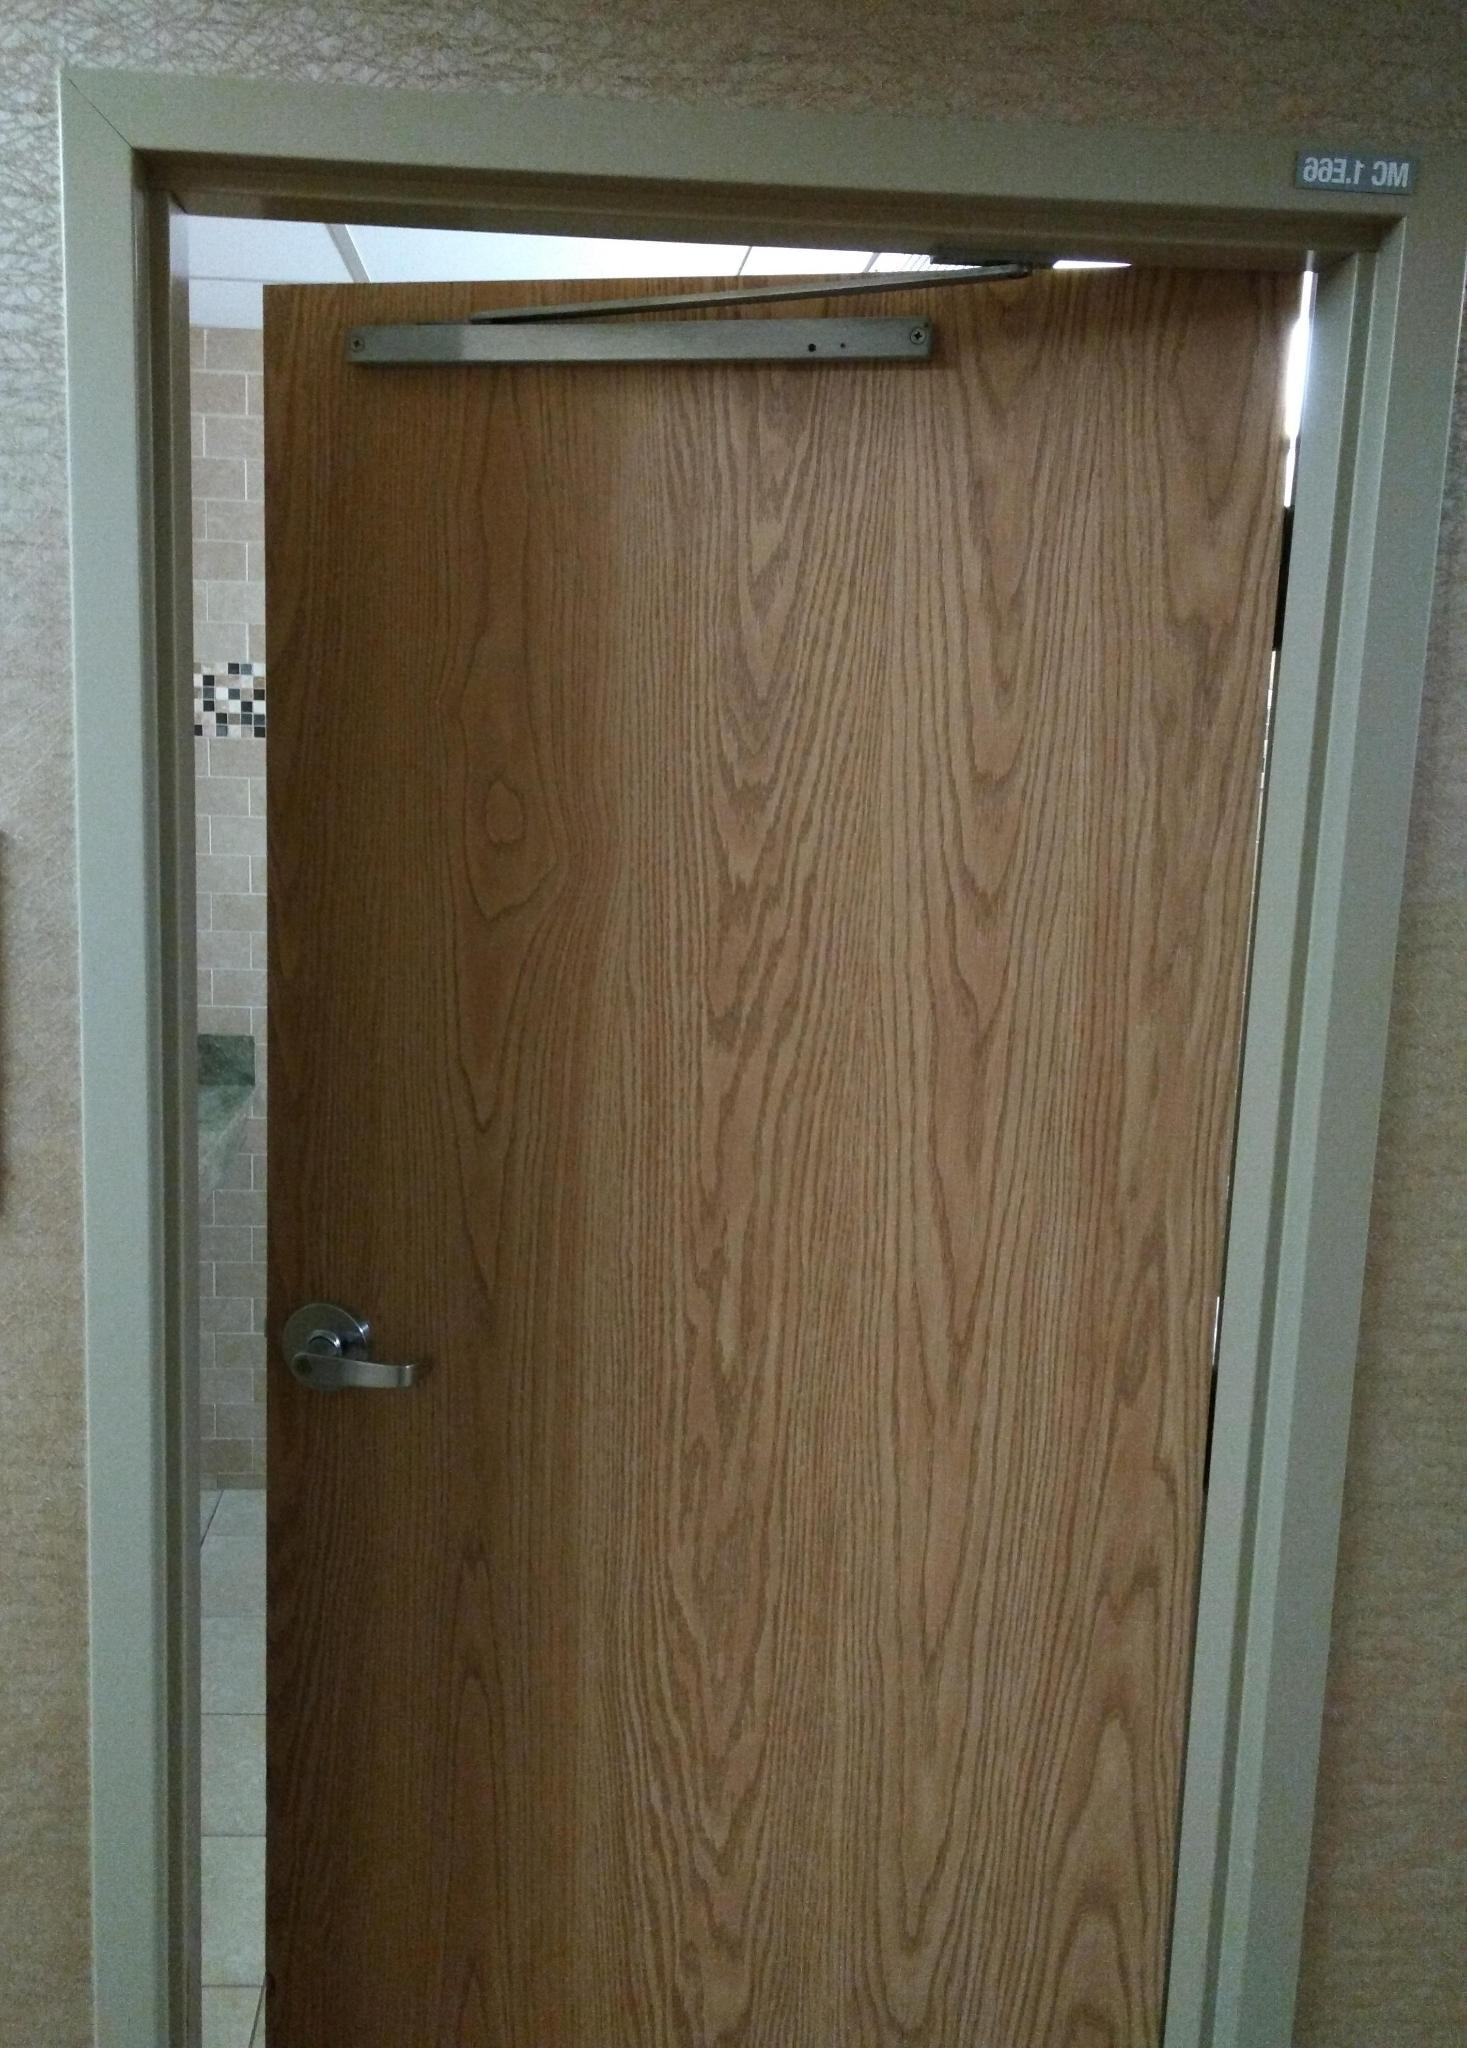door: (259, 313, 1208, 2048)
handle: (291, 1286, 427, 1418)
